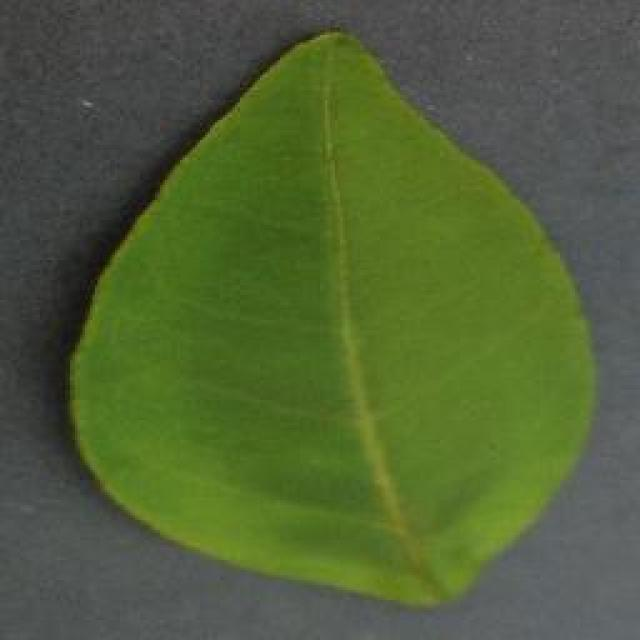Orange_Haunglongbing_Citrus_greening: (121, 99, 520, 560)
